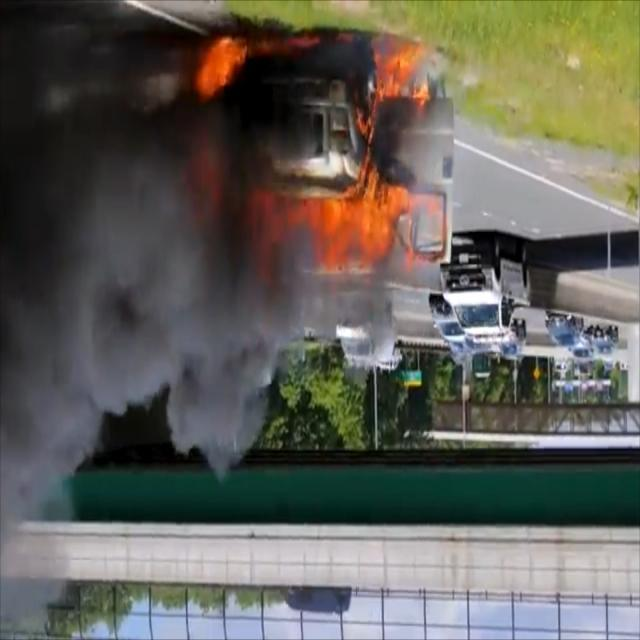fire: (177, 32, 437, 280)
